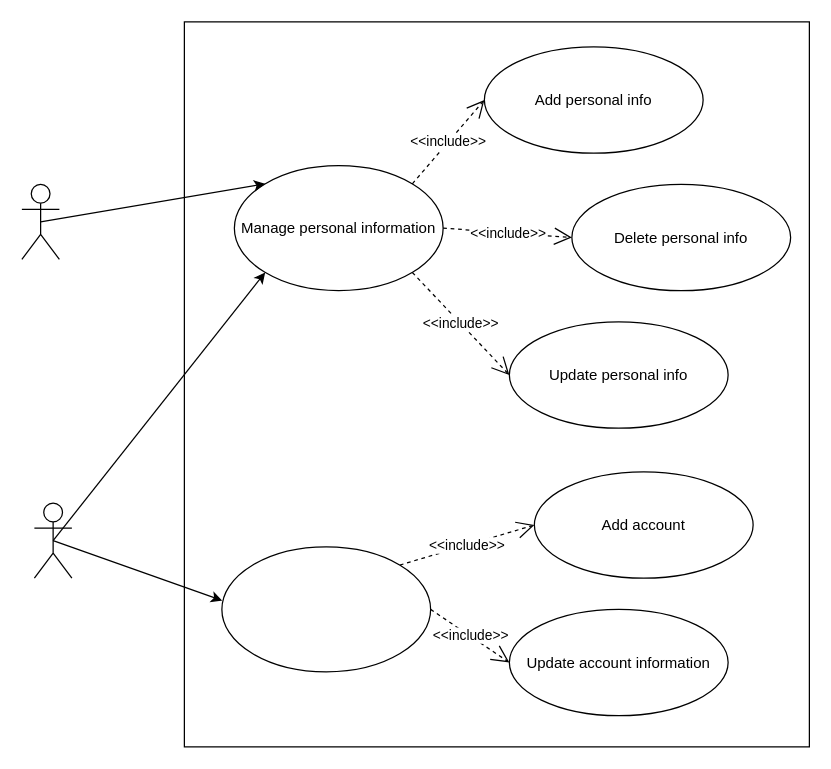
The diagram is 831 pixels wide and 769 high, and some of its shapes have lost their labels. Each missing label, with the box of its shape:
Admin: (33, 502, 72, 578)
Buyer: (21, 183, 59, 259)
Manage buyer accounts: (221, 546, 431, 672)
